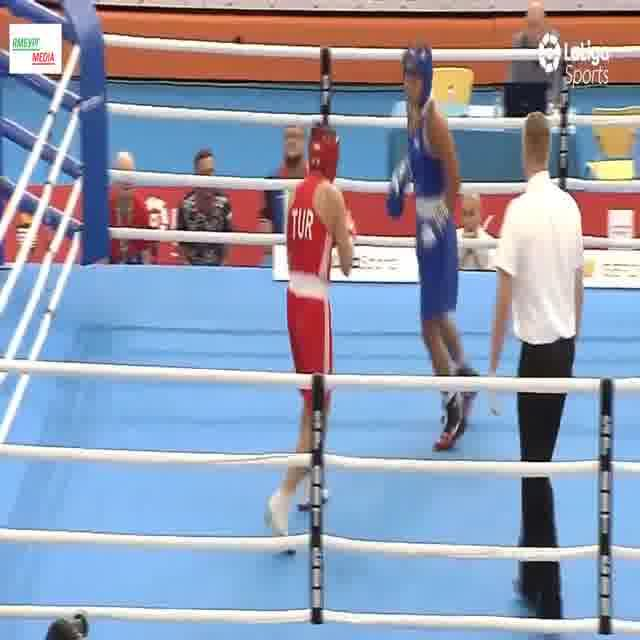blue-player: (385, 40, 484, 457)
red-player: (268, 117, 356, 559)
referee: (483, 107, 587, 640)
